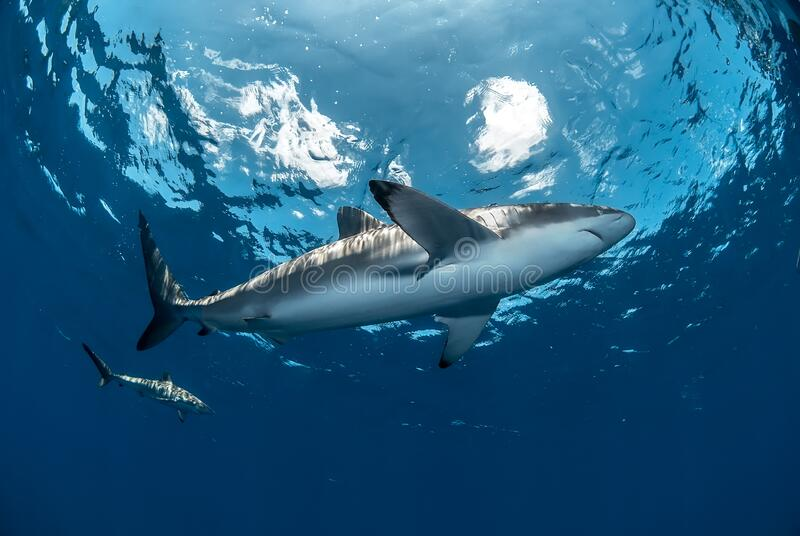shark: (102, 165, 643, 378), (58, 334, 227, 428)
